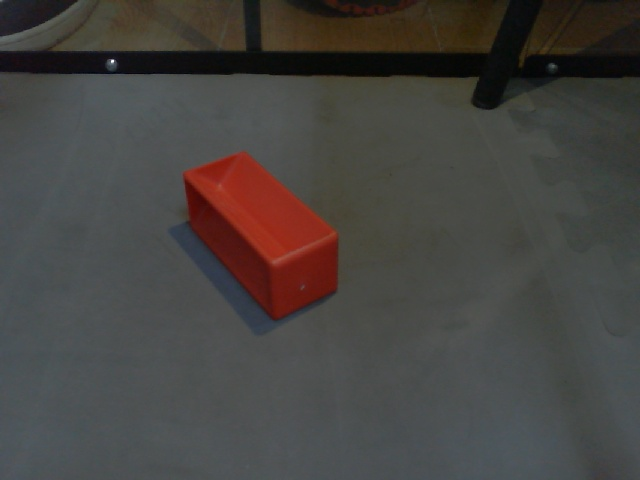RedSample: (180, 148, 344, 323)
